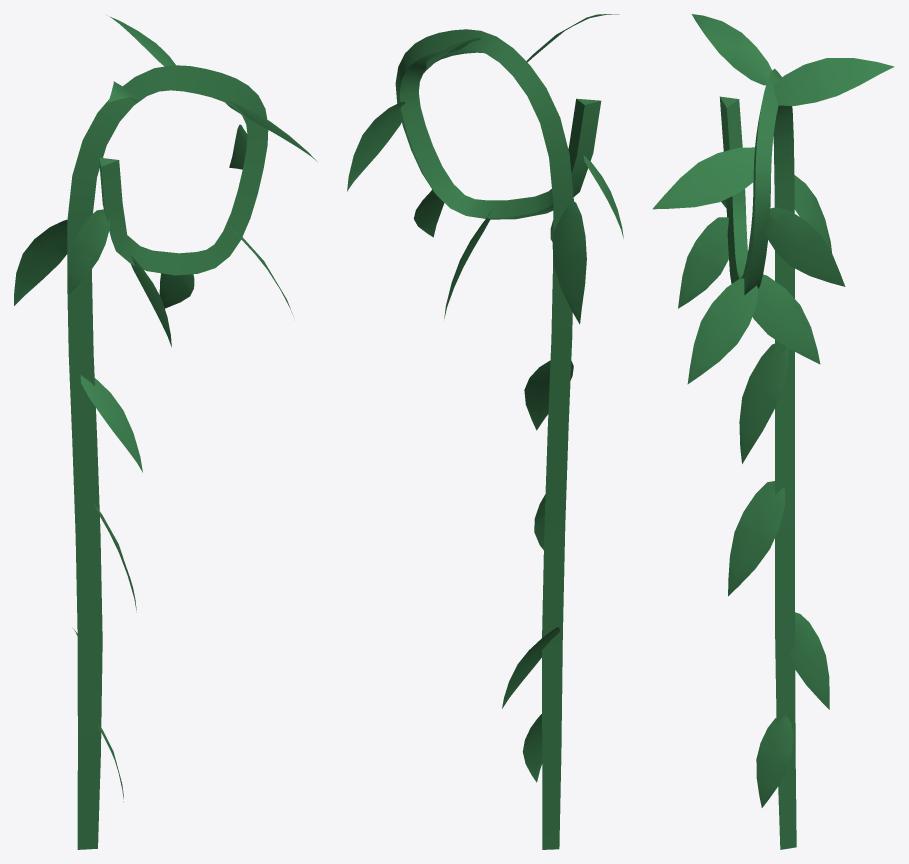
The model's file is vine_O_scanden.fbx.
3 renders of one model, left to right at view 1: azimuth 30°, elevation 25°; view 2: azimuth 150°, elevation 25°; view 3: azimuth 270°, elevation 25°, orthographic. The views are drawn at different scales.
Visible parts, largest first — view 1: vine_O_scanden_root, vine_O_scanden_A_leaf_A69, vine_O_scanden_A_leaf_A66, vine_O_scanden_A_leaf_A68, vine_O_scanden_A_leaf_A63, vine_O_scanden_A_leaf_A58, vine_O_scanden_A_leaf_A62, vine_O_scanden_A_leaf_A59; view 2: vine_O_scanden_root, vine_O_scanden_A_leaf_A69, vine_O_scanden_A_leaf_A61, vine_O_scanden_A_leaf_A68, vine_O_scanden_A_leaf_A65, vine_O_scanden_A_leaf_A64, vine_O_scanden_A_leaf_A60, vine_O_scanden_A_leaf_A63; view 3: vine_O_scanden_root, vine_O_scanden_A_leaf_A59, vine_O_scanden_A_leaf_A60, vine_O_scanden_A_leaf_A62, vine_O_scanden_A_leaf_A, vine_O_scanden_A_leaf_A61, vine_O_scanden_A_leaf_A68, vine_O_scanden_A_leaf_A63, vine_O_scanden_A_leaf_A58, vine_O_scanden_A_leaf_A67, vine_O_scanden_A_leaf_A64, vine_O_scanden_A_leaf_A65 (+1 smaller).
Boxes of the visible parts, box(x1,y1,x2,y2) form: vine_O_scanden_root: box(67, 65, 268, 849); vine_O_scanden_A_leaf_A69: box(14, 219, 67, 305); vine_O_scanden_A_leaf_A66: box(68, 209, 109, 294); vine_O_scanden_A_leaf_A68: box(80, 375, 142, 472); vine_O_scanden_A_leaf_A63: box(159, 273, 194, 308); vine_O_scanden_A_leaf_A58: box(130, 255, 171, 347); vine_O_scanden_A_leaf_A62: box(107, 15, 175, 66); vine_O_scanden_A_leaf_A59: box(226, 100, 317, 161); vine_O_scanden_root: box(395, 29, 601, 849); vine_O_scanden_A_leaf_A69: box(552, 200, 586, 324); vine_O_scanden_A_leaf_A61: box(347, 101, 405, 191); vine_O_scanden_A_leaf_A68: box(524, 360, 573, 430); vine_O_scanden_A_leaf_A65: box(502, 627, 560, 708); vine_O_scanden_A_leaf_A64: box(522, 714, 542, 782); vine_O_scanden_A_leaf_A60: box(413, 189, 444, 237); vine_O_scanden_A_leaf_A63: box(444, 212, 490, 318); vine_O_scanden_root: box(719, 68, 796, 849); vine_O_scanden_A_leaf_A59: box(652, 147, 754, 209); vine_O_scanden_A_leaf_A60: box(687, 278, 758, 384); vine_O_scanden_A_leaf_A62: box(774, 58, 894, 105); vine_O_scanden_A_leaf_A: box(728, 481, 785, 596); vine_O_scanden_A_leaf_A61: box(764, 207, 845, 286); vine_O_scanden_A_leaf_A68: box(739, 343, 788, 463); vine_O_scanden_A_leaf_A63: box(752, 274, 820, 364); vine_O_scanden_A_leaf_A58: box(678, 217, 728, 308); vine_O_scanden_A_leaf_A67: box(691, 14, 771, 85); vine_O_scanden_A_leaf_A64: box(756, 716, 793, 807); vine_O_scanden_A_leaf_A65: box(789, 612, 829, 709).
Size of the model in its own units: 49.44 by 166 by 44.49.
